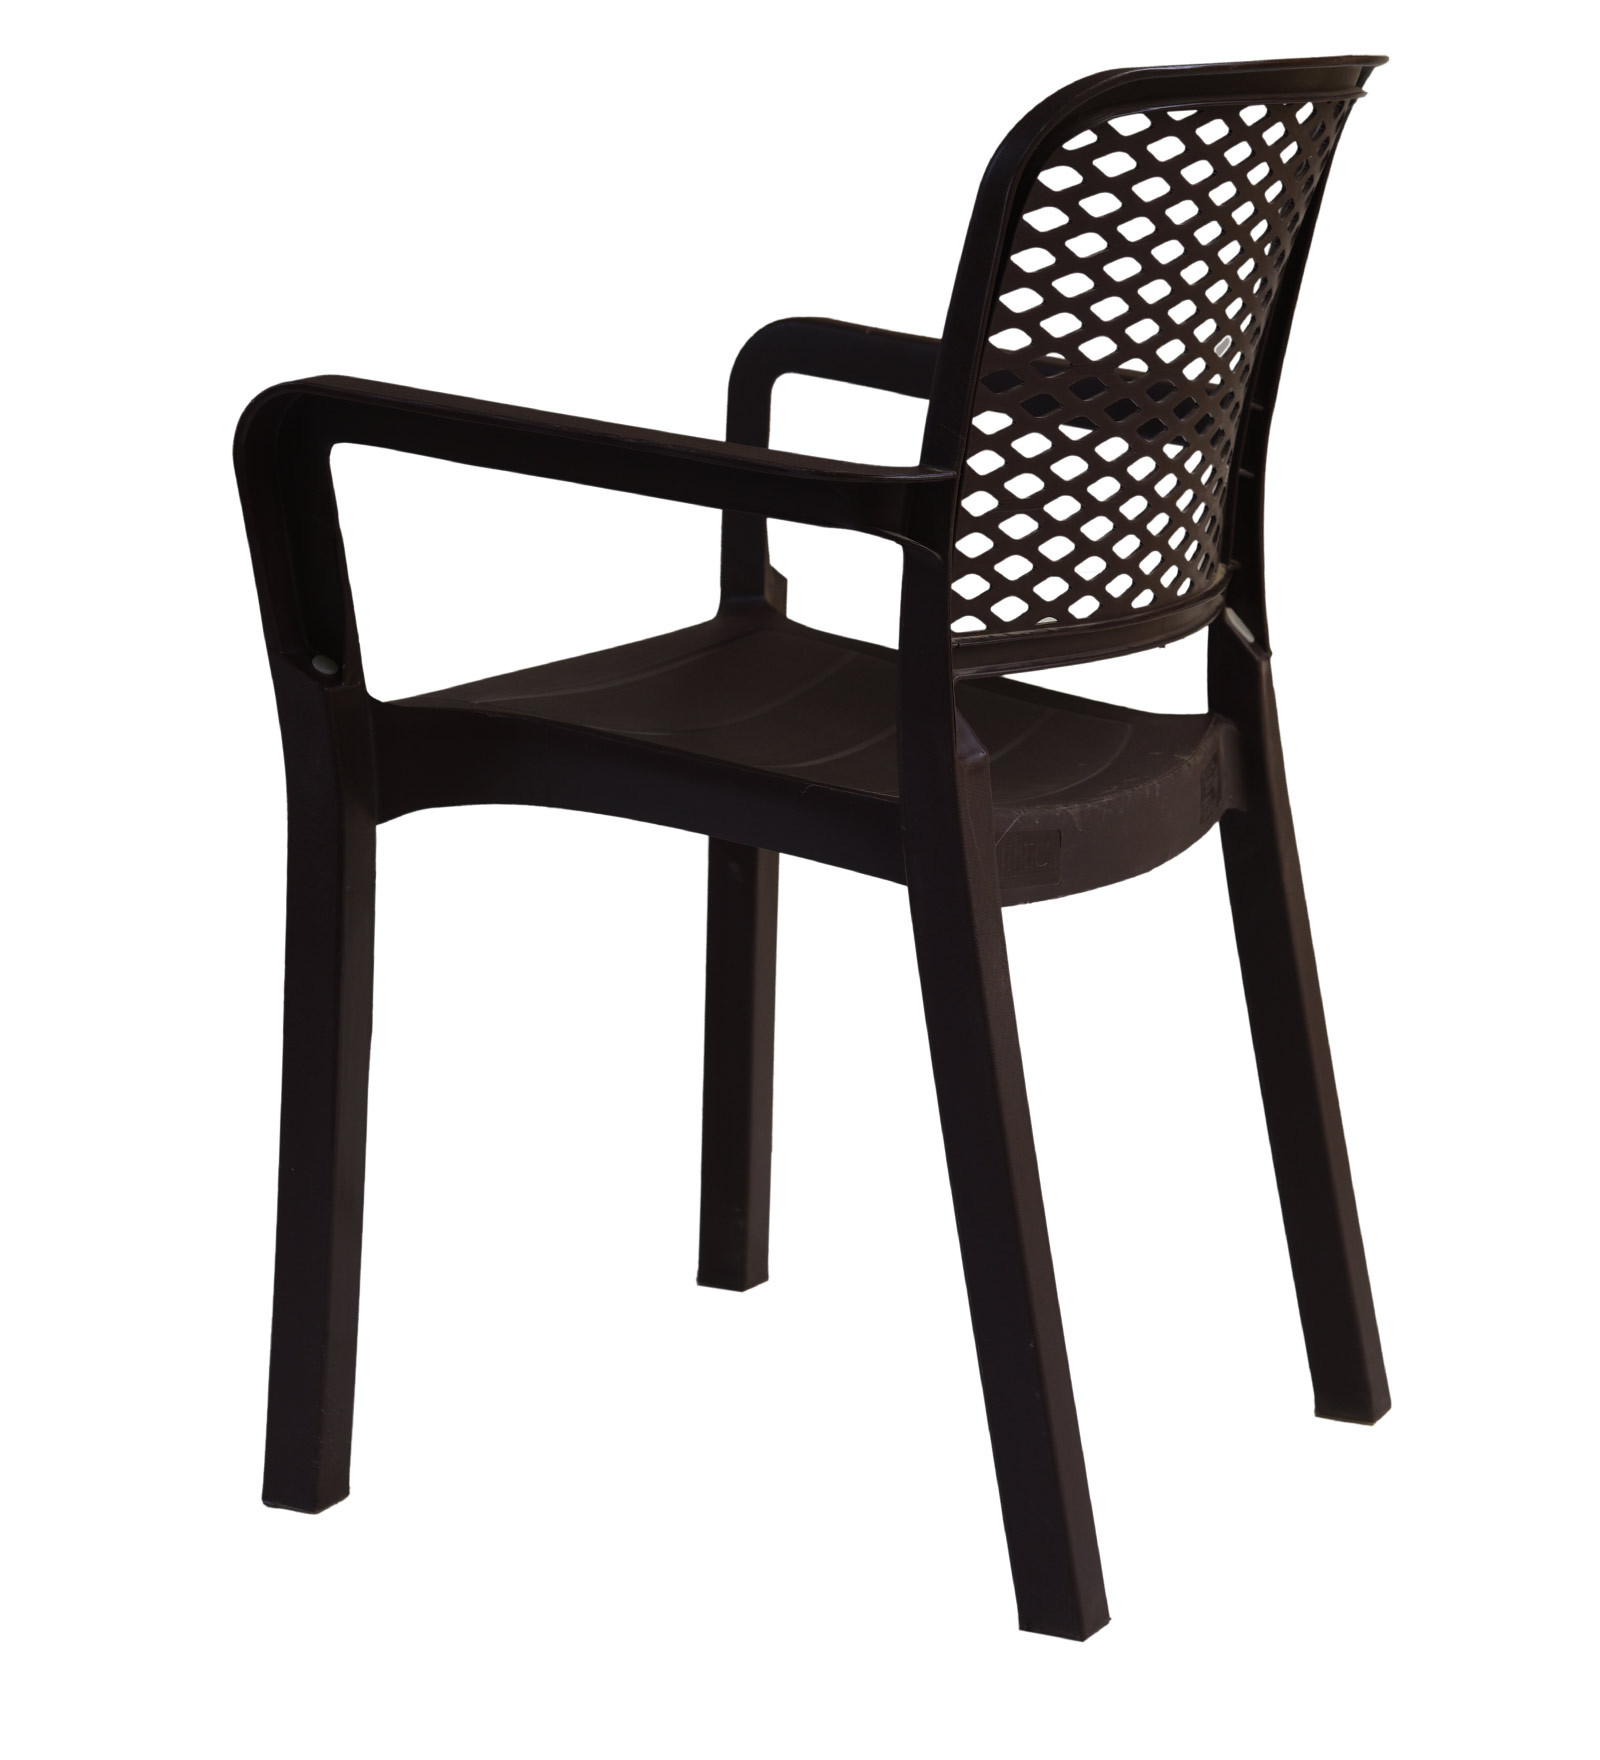Luxury Plastic Chair in Brown Colour by Italica Furniture: (193, 37, 1405, 1656)
